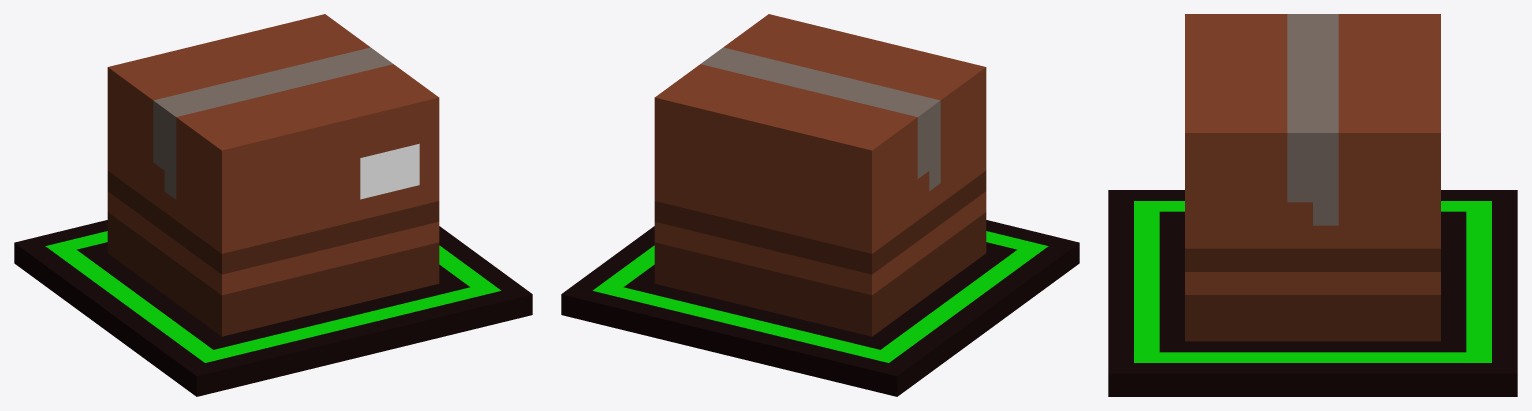
The model's file is PlacaPressao-ON.obj.
The picture shows the model from 3 angles, left to right: view 1: azimuth 30°, elevation 25°; view 2: azimuth 150°, elevation 25°; view 3: azimuth 270°, elevation 25°; orthographic projection. The views are drawn at different scales.
Bounding box in the file's own units: 1.7 × 1 × 1.6.
Materials: 1 (1 with a texture image).
